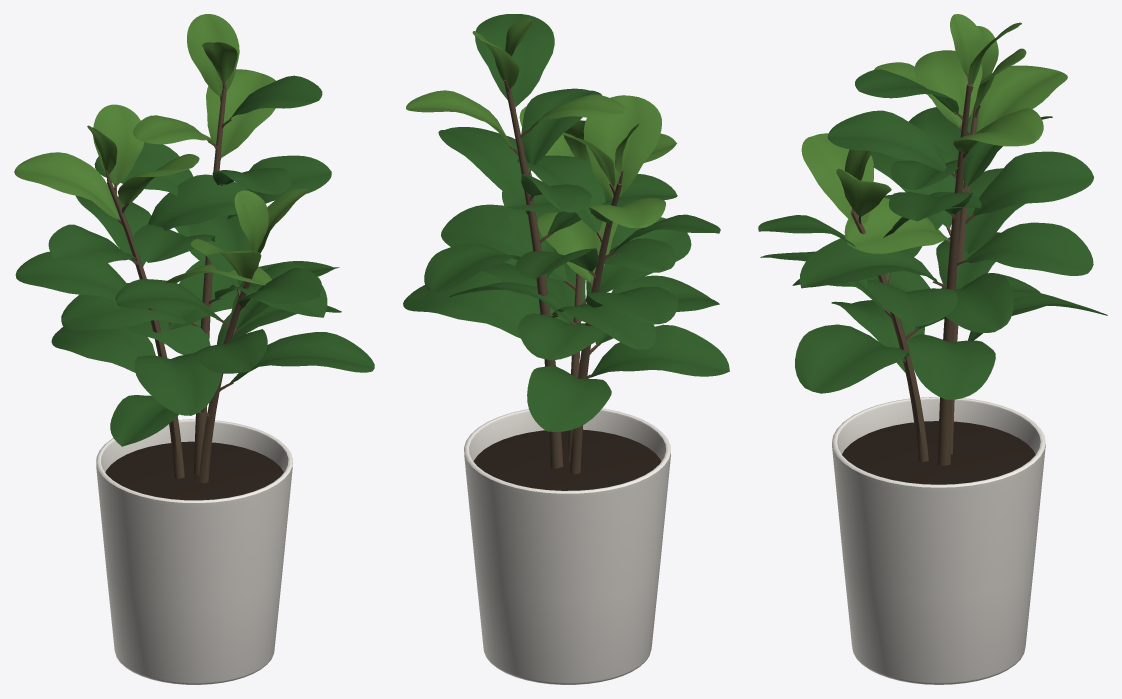
Rendered from plant.glb.
3 views of the same model, side by side, from view 1: azimuth 30°, elevation 25°; view 2: azimuth 150°, elevation 25°; view 3: azimuth 270°, elevation 25° (orthographic). The views are drawn at different scales.
Parts seen in each view (by area): view 1: Plant; view 2: Plant; view 3: Plant.
Part boxes in pixels (left/top/right/bottom): Plant: left=14, top=14, right=374, bottom=684; Plant: left=403, top=14, right=729, bottom=684; Plant: left=758, top=14, right=1107, bottom=684.
Bounding box in the file's own units: 0.7143 × 1.4 × 0.684.
